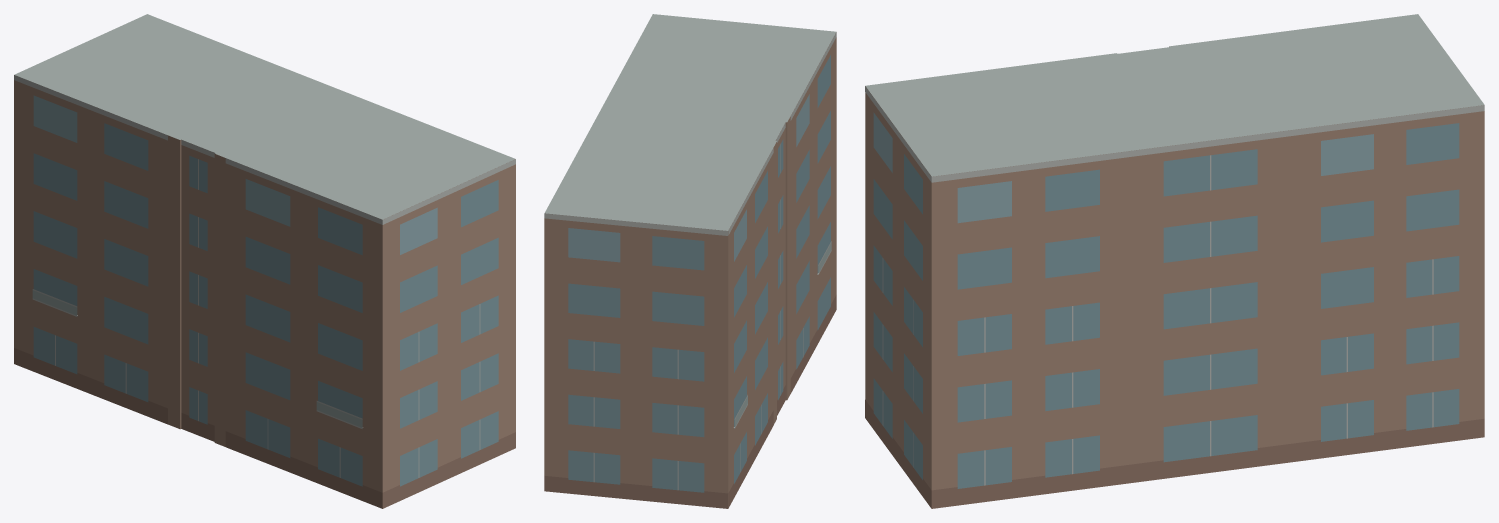
File: survey-upis-32926439.glb
3 views of the same model, side by side, from view 1: azimuth 30°, elevation 25°; view 2: azimuth 150°, elevation 25°; view 3: azimuth 270°, elevation 25° (orthographic). The views are drawn at different scales.
Visible parts, largest first — view 1: survey-upis-32926439.tmp; view 2: survey-upis-32926439.tmp; view 3: survey-upis-32926439.tmp.
Part boxes in pixels (bbox=[...]): survey-upis-32926439.tmp: bbox=[14, 14, 515, 508]; survey-upis-32926439.tmp: bbox=[544, 14, 836, 508]; survey-upis-32926439.tmp: bbox=[865, 14, 1484, 508].
Size of the model in its own units: 14.03 by 13.35 by 22.57.
